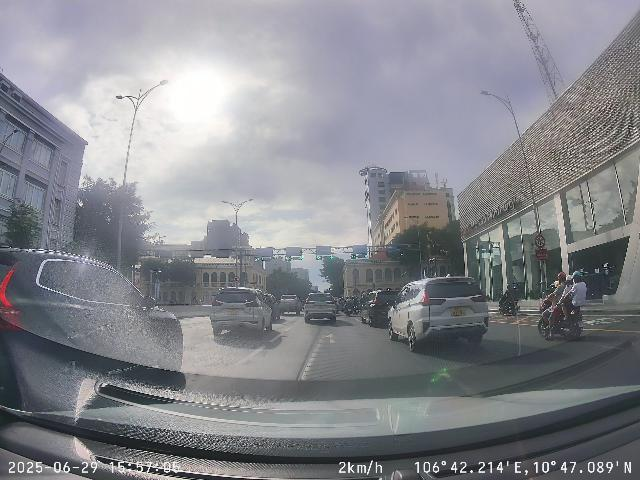124b-cam-oto-quay-dau-xe: (535, 235, 545, 248)
